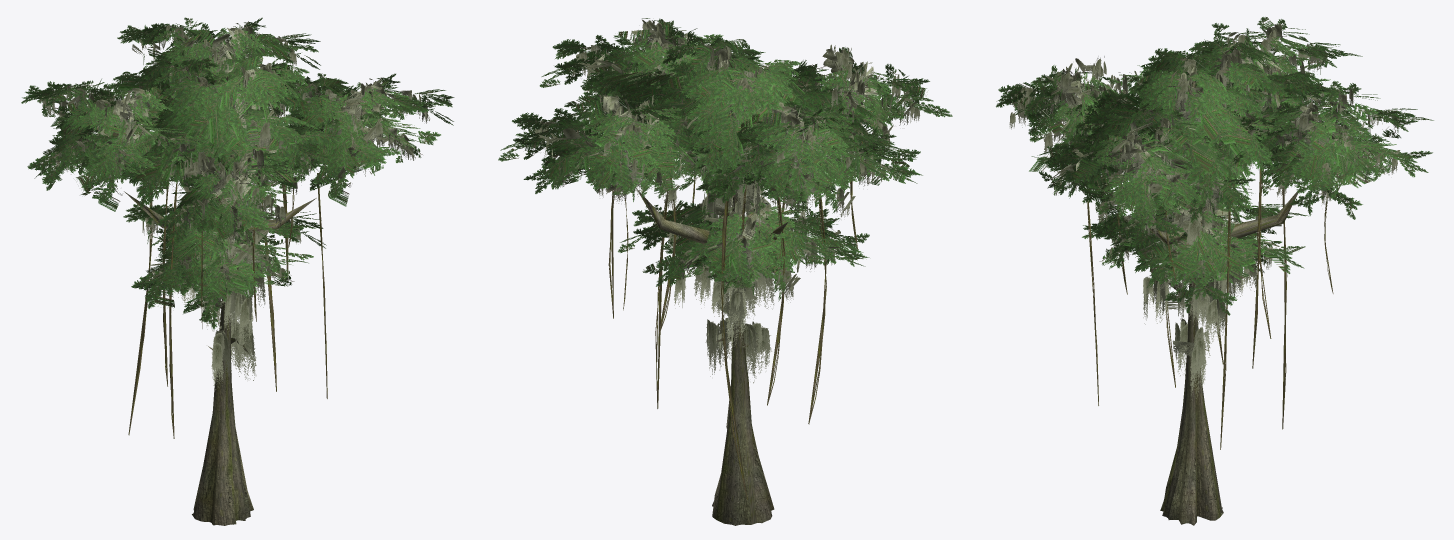
The model's file is yavintree.glb.
The picture shows the model from 3 angles, left to right: view 1: azimuth 30°, elevation 25°; view 2: azimuth 150°, elevation 25°; view 3: azimuth 270°, elevation 25°; orthographic projection. The views are drawn at different scales.
Parts seen in each view (by area): view 1: Object_66, Object_51, Object_10, Object_13, Object_22, Object_86; view 2: Object_66, Object_51, Object_13, Object_10, Object_22, Object_86; view 3: Object_66, Object_51, Object_13, Object_10, Object_22, Object_86.
Part boxes in pixels (box(x1,y1,x2,y2)): Object_66: box(21, 17, 454, 329); Object_51: box(108, 54, 357, 208); Object_10: box(192, 75, 253, 525); Object_13: box(86, 44, 368, 389); Object_22: box(128, 113, 327, 438); Object_86: box(124, 191, 316, 232); Object_66: box(498, 18, 952, 302); Object_51: box(581, 31, 879, 209); Object_13: box(570, 59, 867, 383); Object_10: box(697, 61, 774, 525); Object_22: box(608, 127, 858, 499); Object_86: box(636, 173, 787, 244); Object_66: box(996, 17, 1433, 315); Object_51: box(1064, 39, 1335, 224); Object_13: box(1055, 51, 1364, 400); Object_10: box(1156, 69, 1223, 525); Object_22: box(1086, 165, 1333, 449); Object_86: box(1149, 185, 1298, 244).
Bounding box in the file's own units: 28.17 × 30 × 26.67.
Materials: 6 (6 with a texture image).
